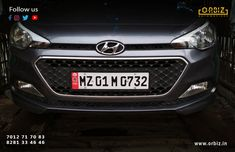number_plate: (71, 71, 151, 92)
